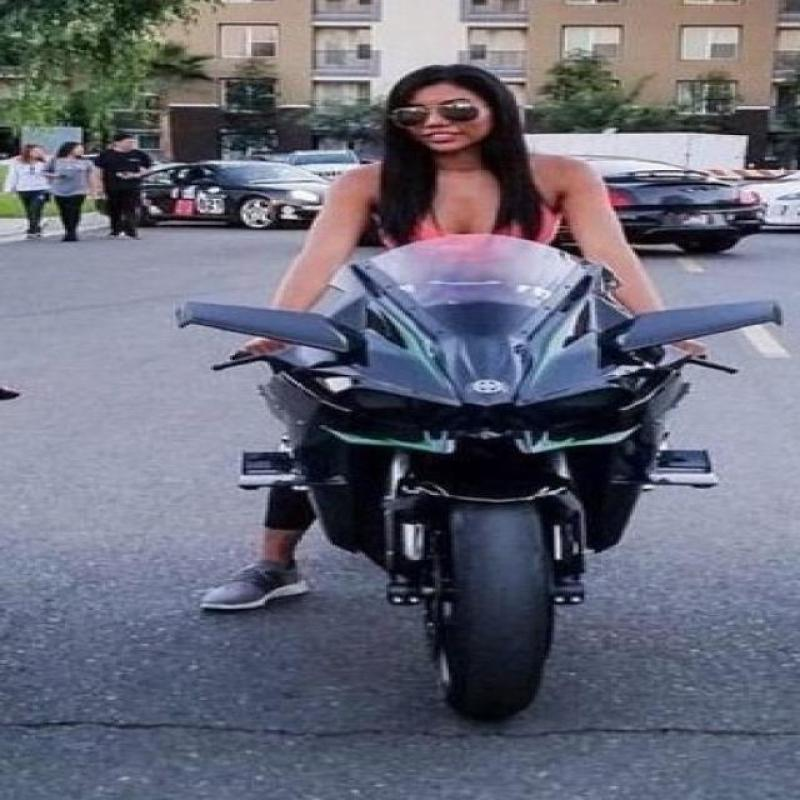nohelmet: (358, 57, 580, 162)
